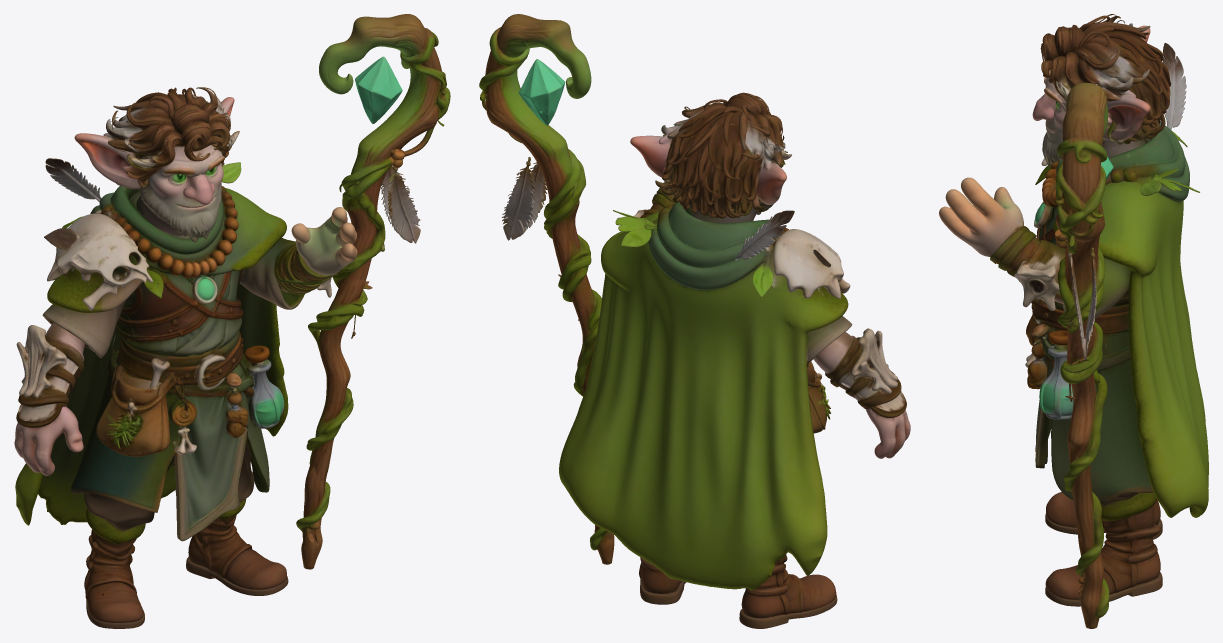
The model's file is halfling_druid_full_male_01.glb.
The picture shows the model from 3 angles, left to right: view 1: azimuth 30°, elevation 25°; view 2: azimuth 150°, elevation 25°; view 3: azimuth 270°, elevation 25°; orthographic projection. The views are drawn at different scales.
Visible parts, largest first — view 1: material; view 2: material; view 3: material.
Boxes of the visible parts, x1=… form: material: x1=14, y1=14, x2=450, y2=628; material: x1=479, y1=14, x2=910, y2=628; material: x1=939, y1=14, x2=1208, y2=628.
Bounding box in the file's own units: 0.8315 × 0.9932 × 0.4254.
1 material, 1 textured.
